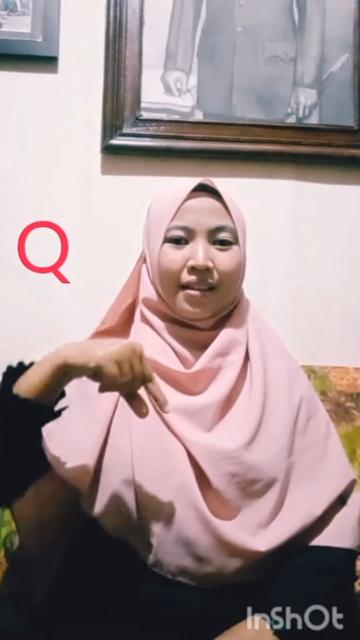Q: (63, 336, 183, 420)
